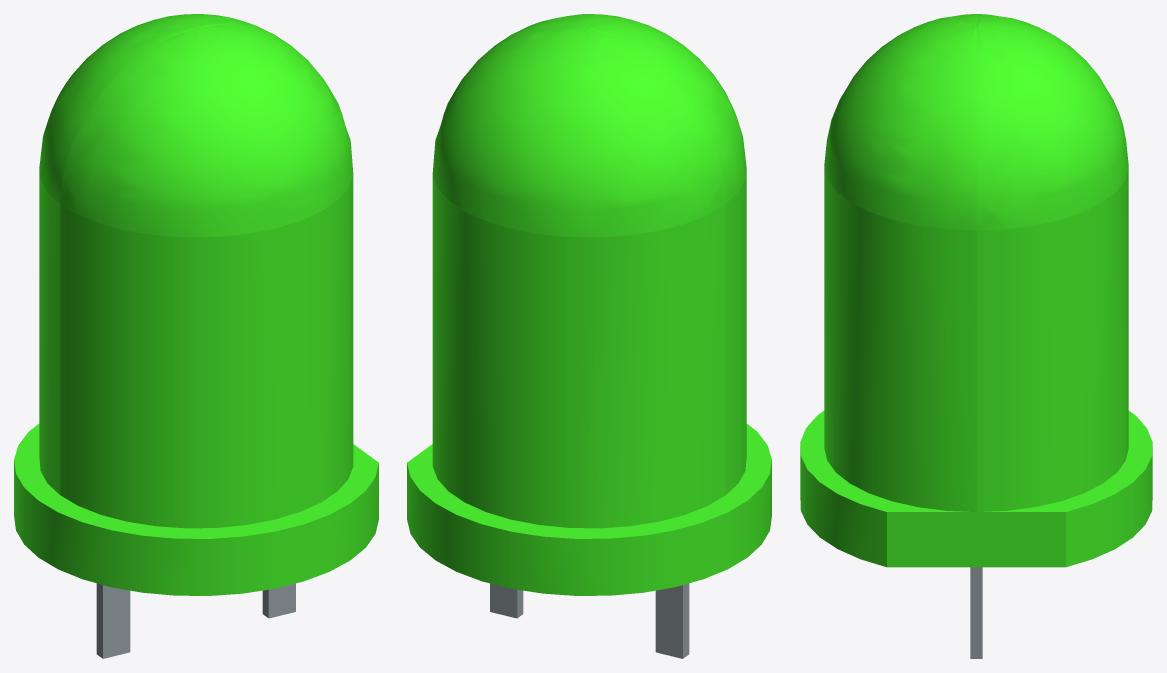
Rendered from sfe-led_pth_5mm_green.glb.
3 views of the same model, side by side, from view 1: azimuth 30°, elevation 25°; view 2: azimuth 150°, elevation 25°; view 3: azimuth 270°, elevation 25° (orthographic). The views are drawn at different scales.
Visible parts, largest first — view 1: 0.08333333333333333_1_0_0, 0.3333333333333333_0.4166666666666667_0.4166666666666667_0; view 2: 0.08333333333333333_1_0_0, 0.3333333333333333_0.4166666666666667_0.4166666666666667_0; view 3: 0.08333333333333333_1_0_0, 0.3333333333333333_0.4166666666666667_0.4166666666666667_0.
Boxes of the visible parts, x1,y1,x2,y2 form: 0.08333333333333333_1_0_0: (14, 14, 378, 595); 0.3333333333333333_0.4166666666666667_0.4166666666666667_0: (96, 583, 295, 658); 0.08333333333333333_1_0_0: (407, 14, 771, 595); 0.3333333333333333_0.4166666666666667_0.4166666666666667_0: (490, 583, 689, 658); 0.08333333333333333_1_0_0: (800, 14, 1152, 567); 0.3333333333333333_0.4166666666666667_0.4166666666666667_0: (970, 567, 982, 658).
Bounding box in the file's own units: 0.54 × 1.06 × 0.5782.
